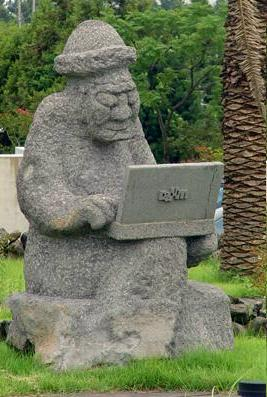Stone Statue: (6, 15, 237, 364)
